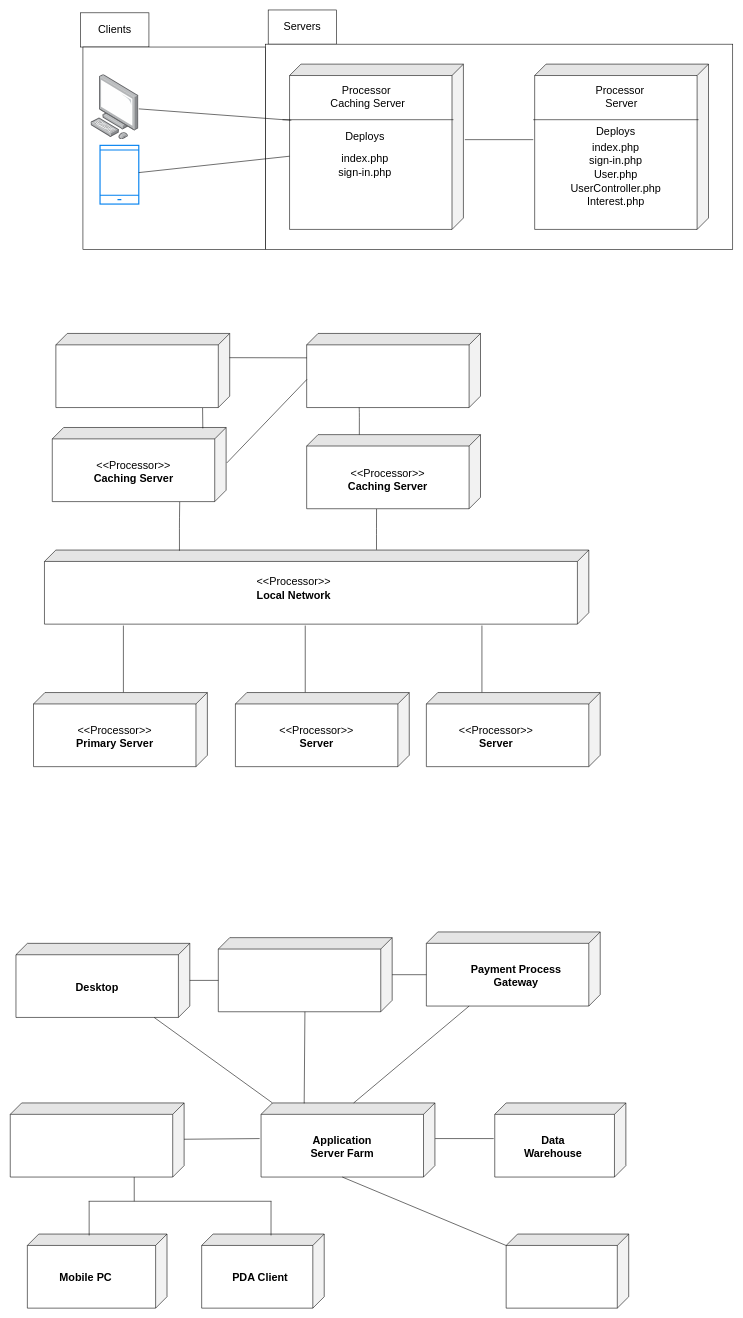
Image size: 743x1318. Some labels were removed from this diagram. The shapes that lost their labels are listed below. From the top down, each one's box as (x1, y1, x2, y2) in pixels, then its label:
(55, 333, 230, 408): Internet
(306, 333, 481, 408): Modem Bank
(218, 937, 392, 1012): MVS Mainframe
(10, 1102, 184, 1177): Firewall
(506, 1233, 629, 1308): Operational Database
